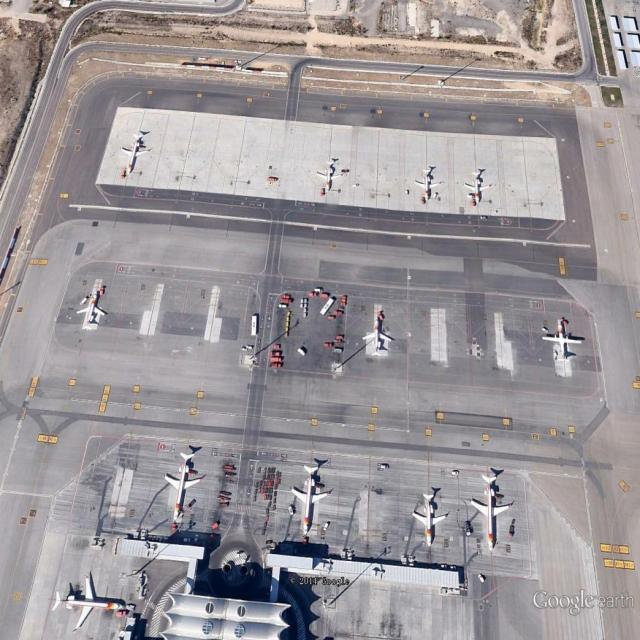aircraft: (48, 575, 131, 637), (470, 475, 519, 554), (164, 450, 206, 540), (290, 461, 334, 538), (411, 490, 452, 551), (541, 317, 589, 362), (119, 129, 155, 178), (360, 314, 396, 361), (74, 287, 111, 329), (316, 159, 346, 199), (413, 166, 444, 204), (462, 168, 493, 206)
